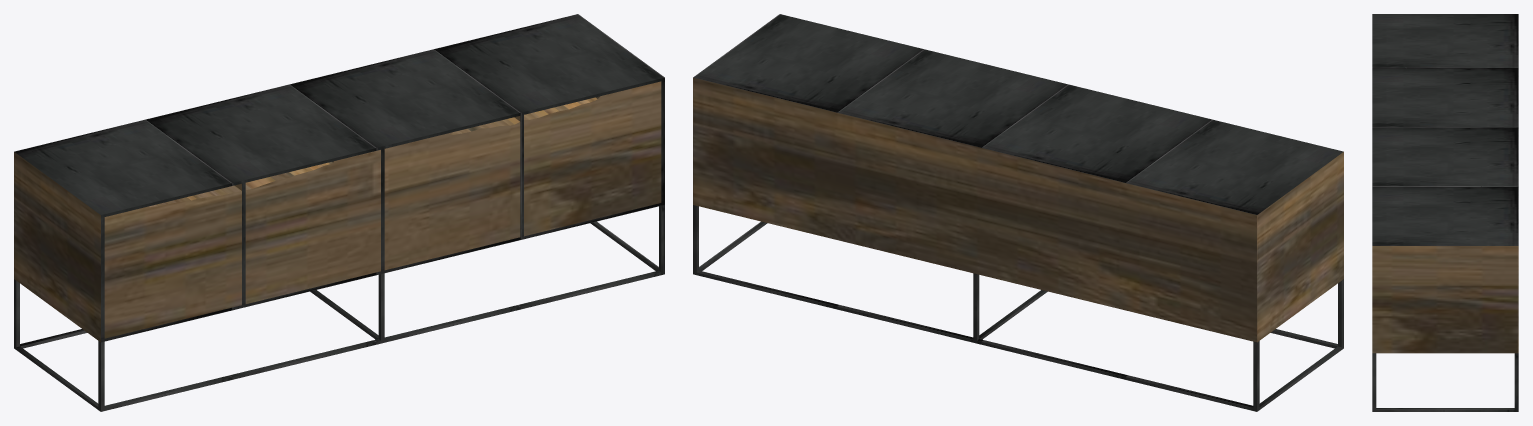
The model's file is ArmarioComedor1.fbx.
3 views of the same model, side by side, from view 1: azimuth 30°, elevation 25°; view 2: azimuth 150°, elevation 25°; view 3: azimuth 270°, elevation 25° (orthographic). The views are drawn at different scales.
Parts seen in each view (by area): view 1: Group1; view 2: Group1; view 3: Group1.
Part boxes in pixels (x1,y1,x2,y2): Group1: [14, 14, 664, 411]; Group1: [693, 14, 1343, 411]; Group1: [1372, 14, 1518, 411].
Size of the model in its own units: 88.58 by 29.53 by 23.62.
